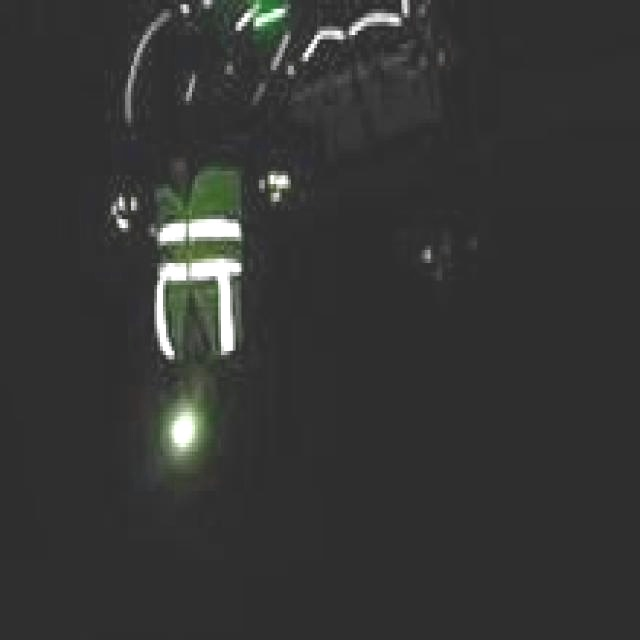Con_Chaleco: (144, 164, 246, 380)
